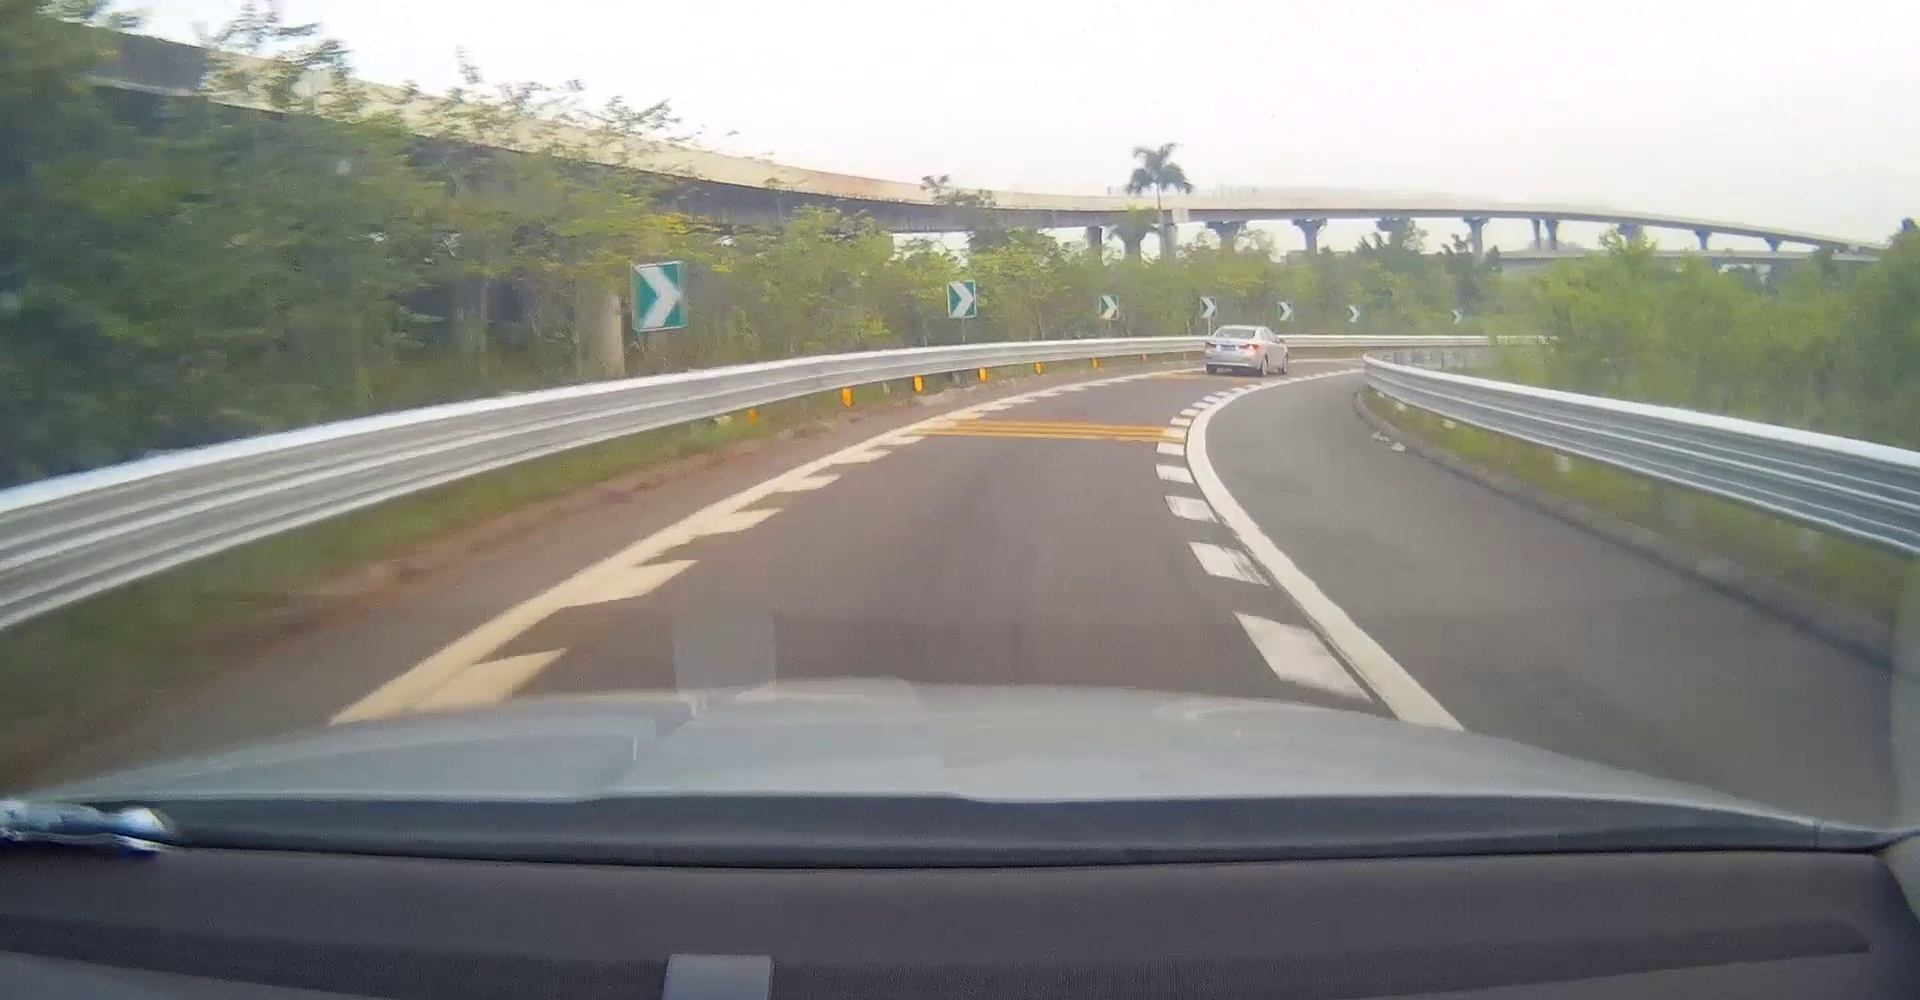L_light: (1205, 341, 1217, 348)
R_light: (1239, 344, 1258, 350)
T_light: (1234, 327, 1241, 330)
day-right: (1204, 325, 1260, 376)
